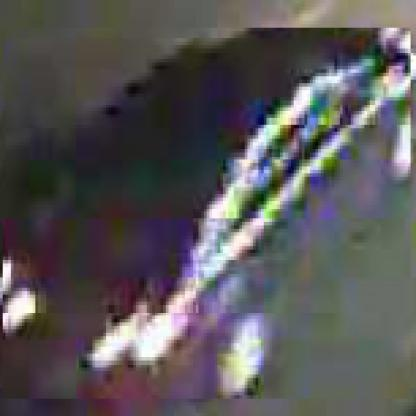car: (4, 29, 414, 403)
